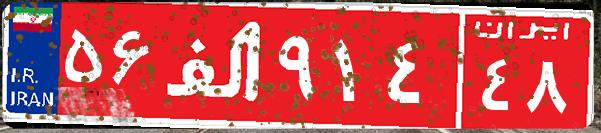1: (330, 28, 385, 110)
4: (385, 28, 445, 110), (475, 38, 525, 113)
5: (57, 26, 110, 107)
6: (110, 28, 158, 105)
8: (525, 38, 570, 115)
9: (273, 28, 330, 110)
الف: (158, 15, 273, 115)
